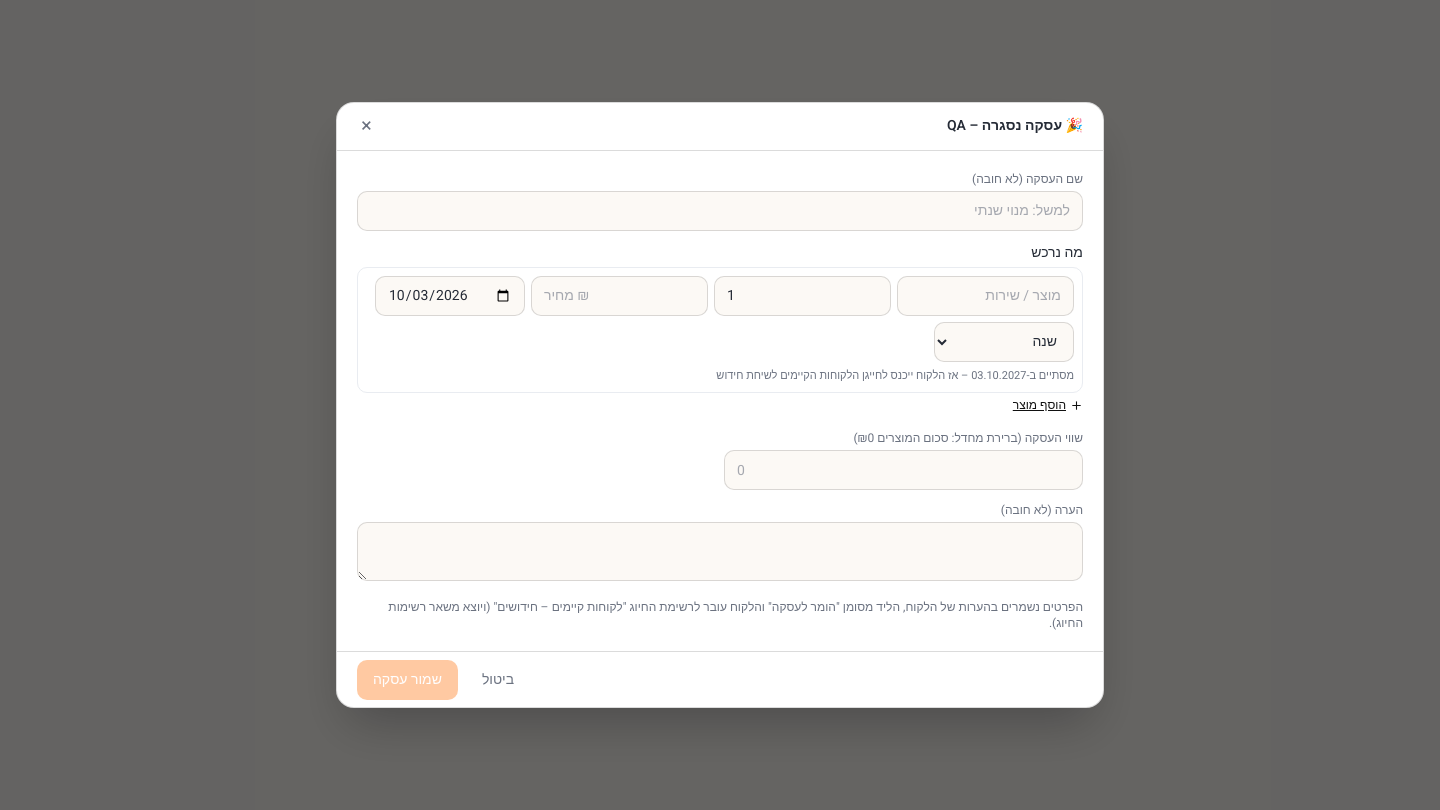
Test: a one-month purchase on January 31 renews on the last day of February
Type "2027-01-31" into the date field named "תאריך רכישה". click: (450, 296)
box: [375,276,525,316]
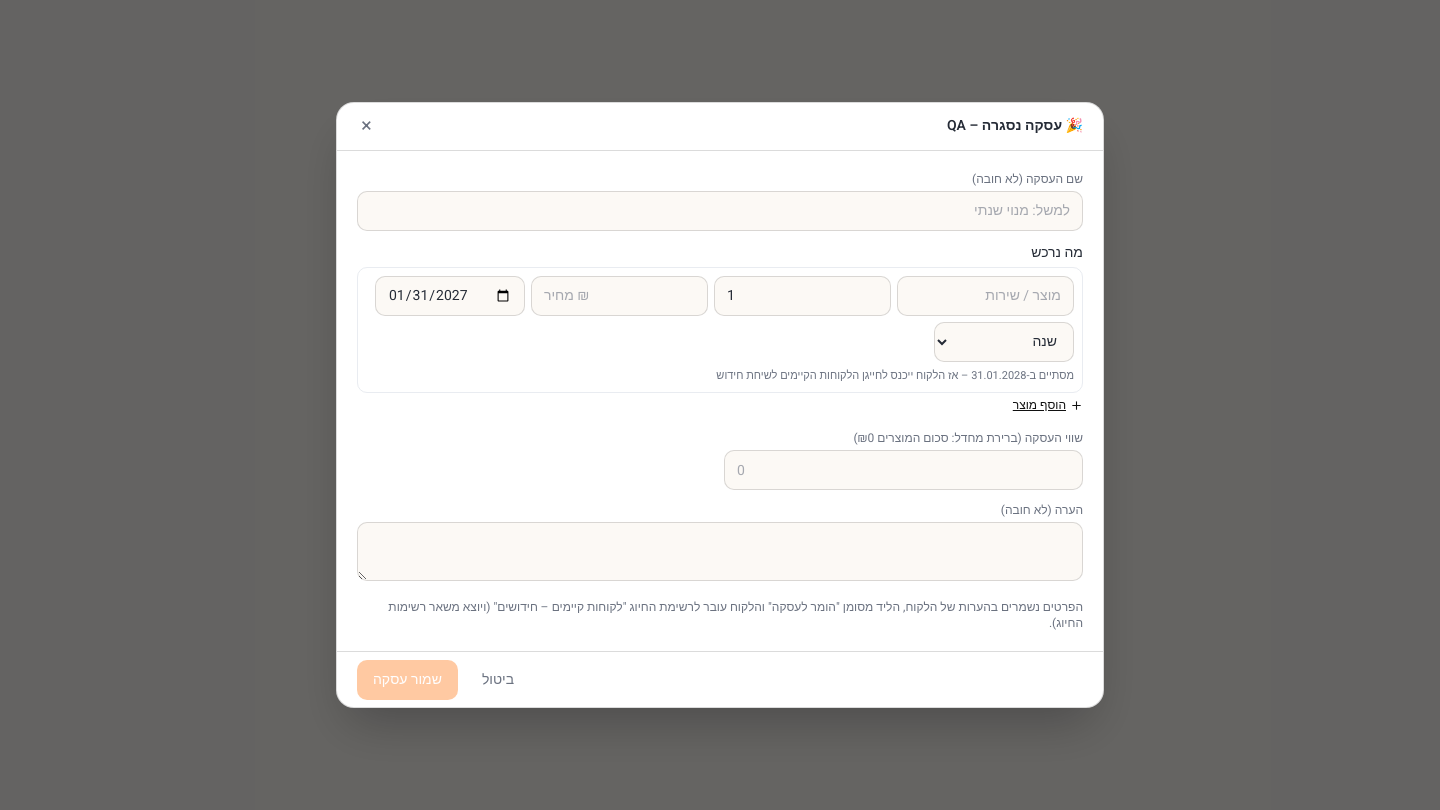
Select "חודש" in the dropdown named "משך". click: (1004, 342)
box: [934,322,1074,362]
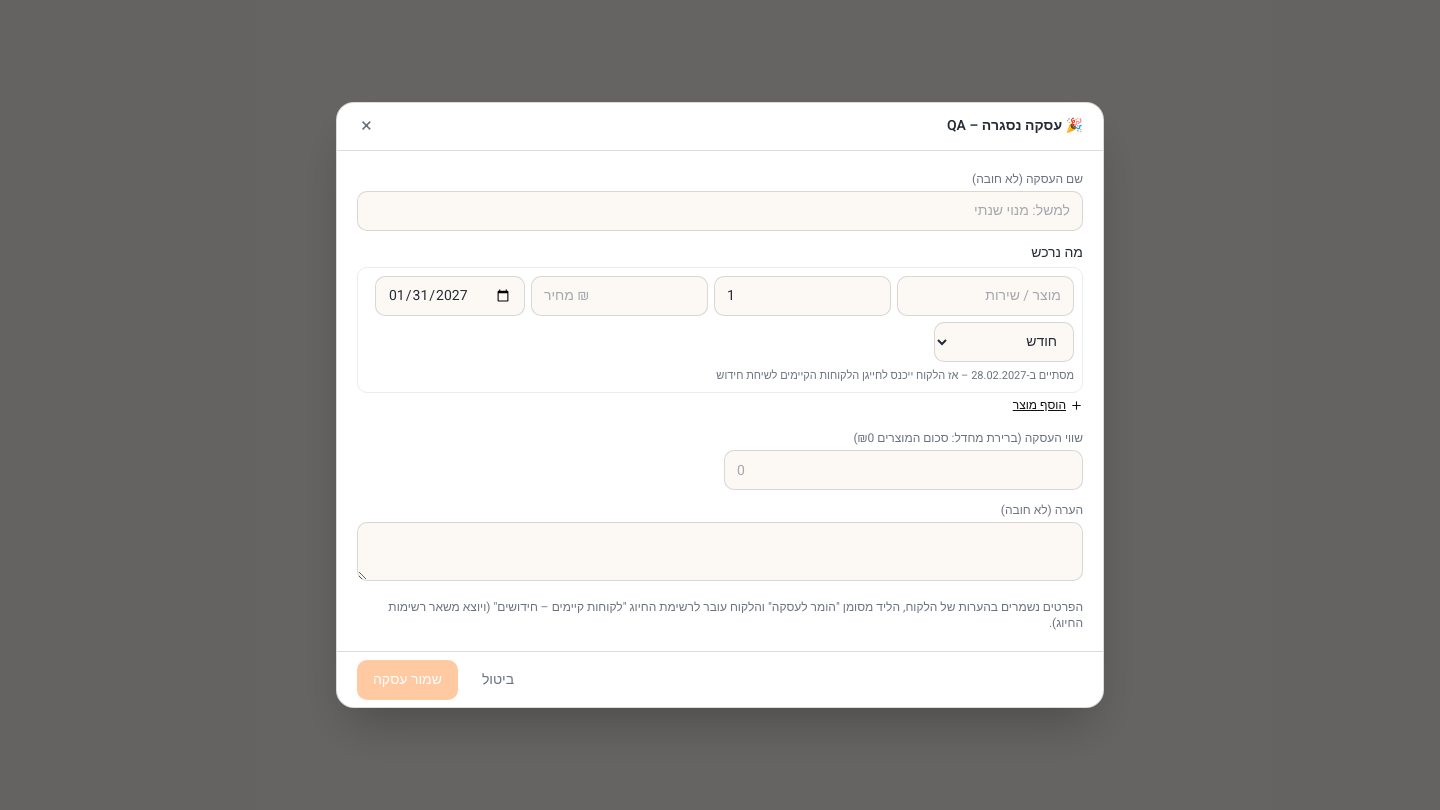
Expected: the text "מסתיים ב-" shows "28.02.2027", [716,367,1074,384]
